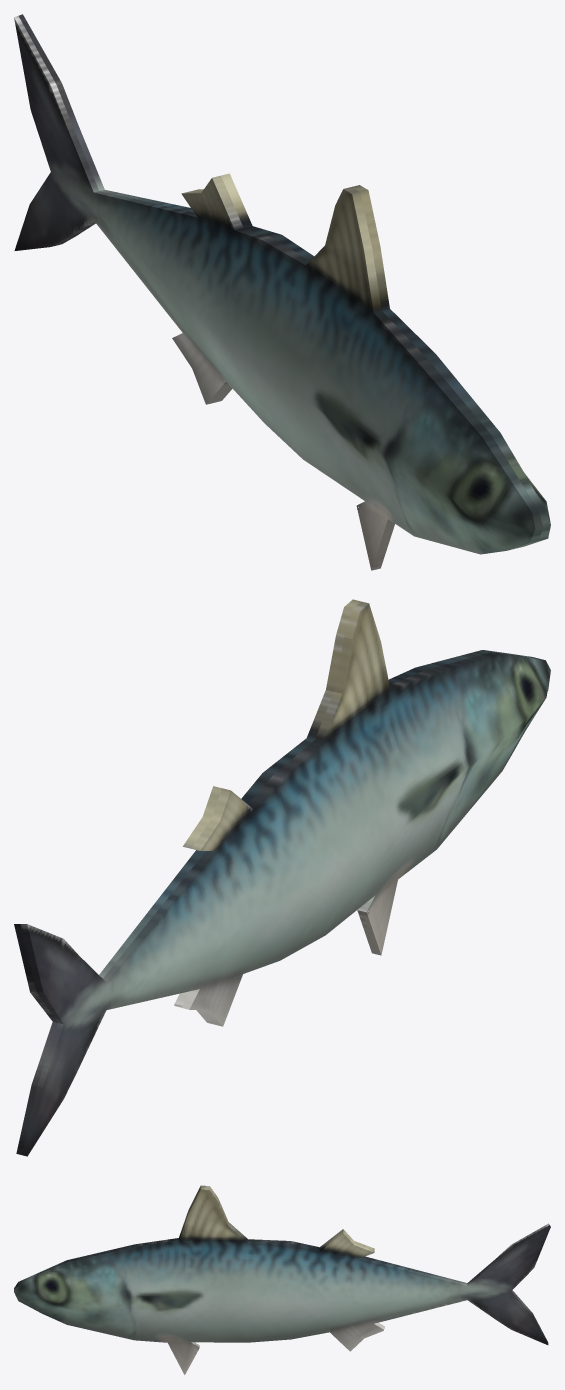
Rendered from mackerel.fbx.
3 views of the same model, one above another, from view 1: azimuth 30°, elevation 25°; view 2: azimuth 150°, elevation 25°; view 3: azimuth 270°, elevation 25° (orthographic). The views are drawn at different scales.
Parts seen in each view (by area): view 1: mackerel; view 2: mackerel; view 3: mackerel.
Part boxes in pixels (x1,y1,x2,y2): mackerel: [14, 14, 550, 570]; mackerel: [14, 599, 550, 1156]; mackerel: [14, 1185, 550, 1374].
Bounding box in the file's own units: 2.2 × 8.11 × 21.13.
